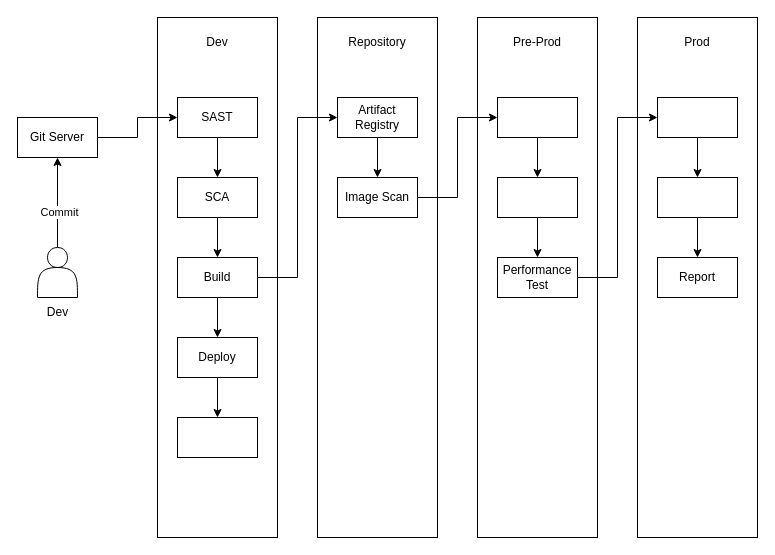
Image size: 775x555. Some labels were removed from this diagram. Each missing label, with the centre of its shape:
Container: point 537,117
DAST: point 537,197
K8s: point 697,117
Pen Test: point 697,197
Unit Test: point 217,437
